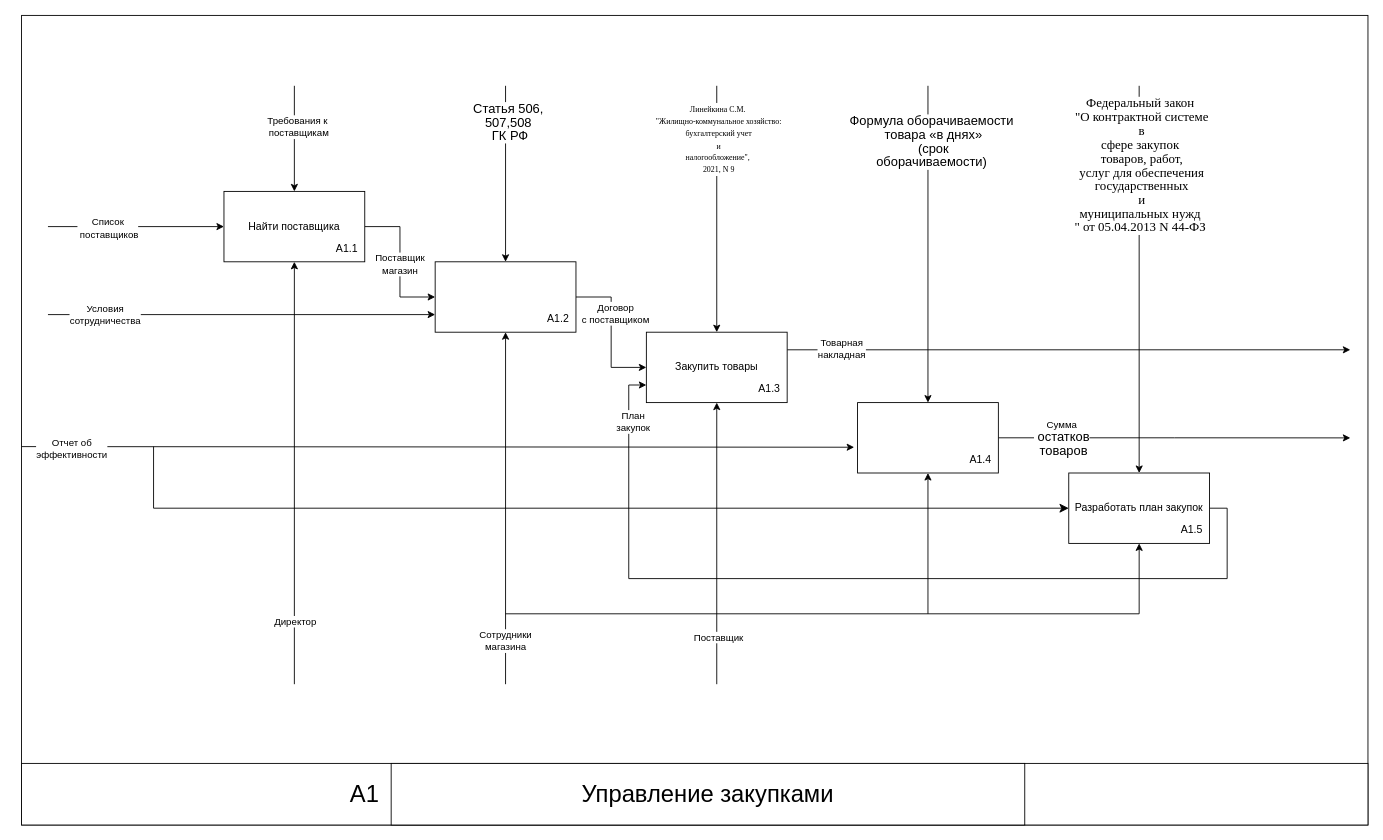
The diagram is 1383 pixels wide and 840 high, and some of its shapes have lost their labels. Here are the shapes that lost their labels. From the top down, the box of each, then its label:
(434, 261, 576, 332): Заключить договор
(857, 402, 998, 473): Учет товаров
